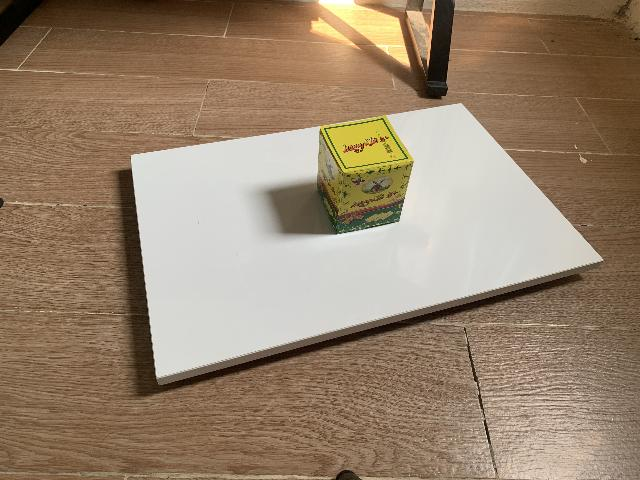luong_kho: (316, 118, 413, 235)
